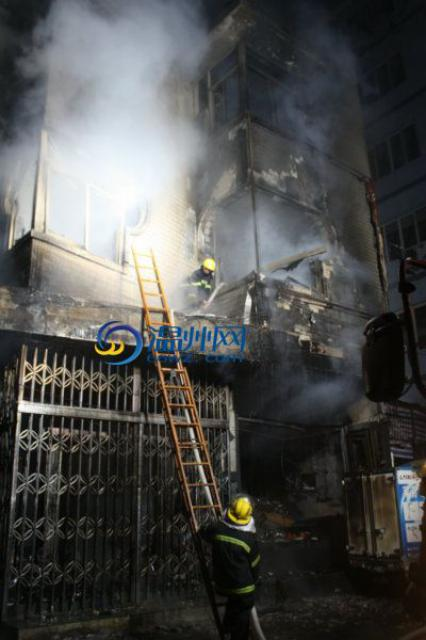smoke: (60, 98, 175, 202), (48, 15, 171, 96)
